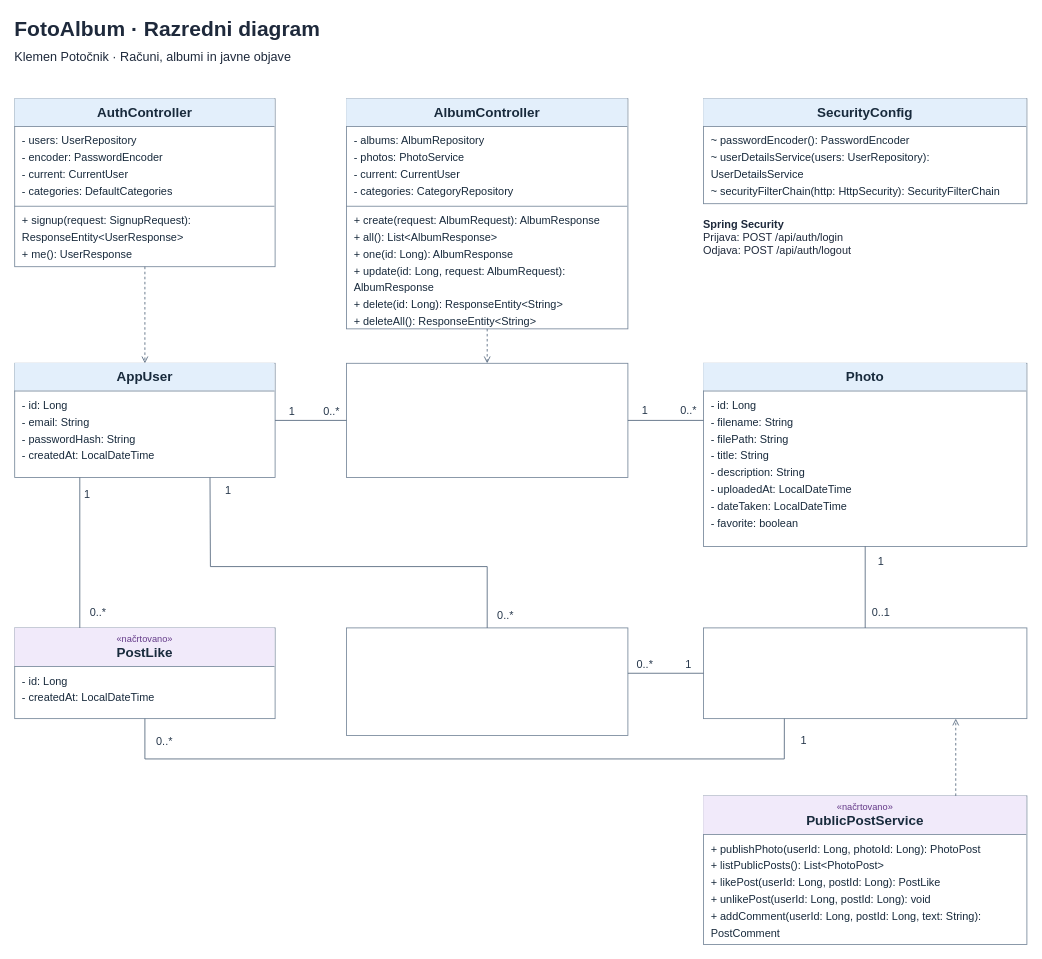
Image size: 1042x959. Some labels were removed from this diagram. The box of each missing label's shape, as (x1, y1, x2, y2) in pixels:
Album - id: Long - title: String - description: String - createdAt: LocalDate: (346, 362, 628, 478)
«načrtovano» PhotoPost - id: Long - publishedAt: LocalDateTime: (703, 627, 1027, 719)
«načrtovano» PostComment - id: Long - text: String - createdAt: LocalDateTime: (346, 627, 628, 735)
